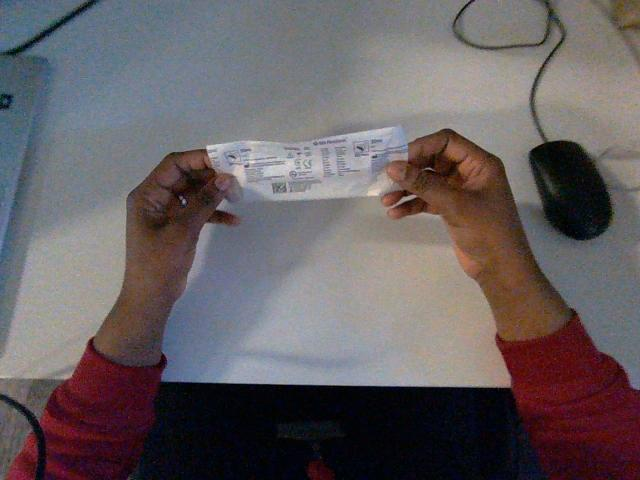syringe: (207, 126, 407, 200)
